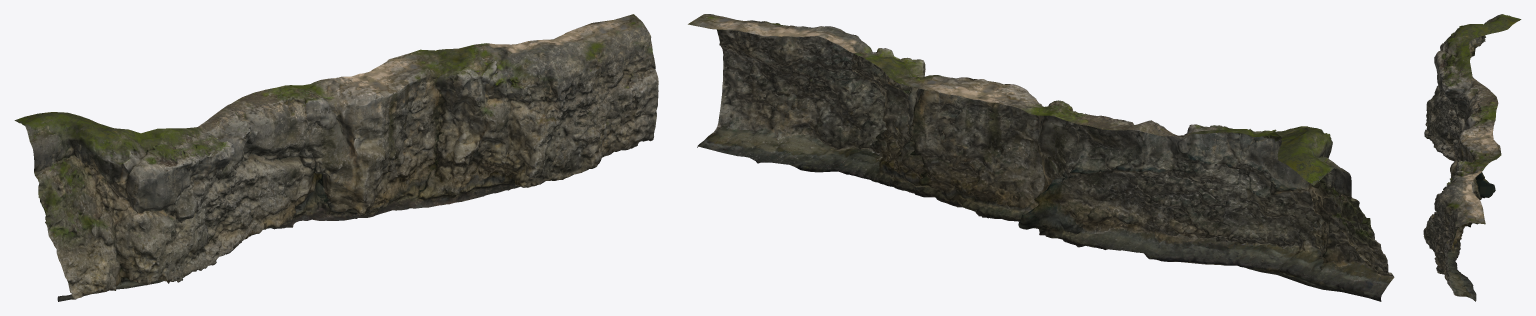
The model's file is coastal_cliff_02.gltf.
The picture shows the model from 3 angles, left to right: view 1: azimuth 30°, elevation 25°; view 2: azimuth 150°, elevation 25°; view 3: azimuth 270°, elevation 25°; orthographic projection. The views are drawn at different scales.
Visible parts, largest first — view 1: coastal_cliff_02_LOD0; view 2: coastal_cliff_02_LOD0; view 3: coastal_cliff_02_LOD0.
Boxes of the visible parts, x1,y1,x2,y2 form: coastal_cliff_02_LOD0: (14, 14, 658, 301); coastal_cliff_02_LOD0: (688, 14, 1394, 301); coastal_cliff_02_LOD0: (1423, 14, 1521, 301).
Size of the model in its own units: 40.93 by 10.05 by 8.65.
Materials: 1 (1 with a texture image).
